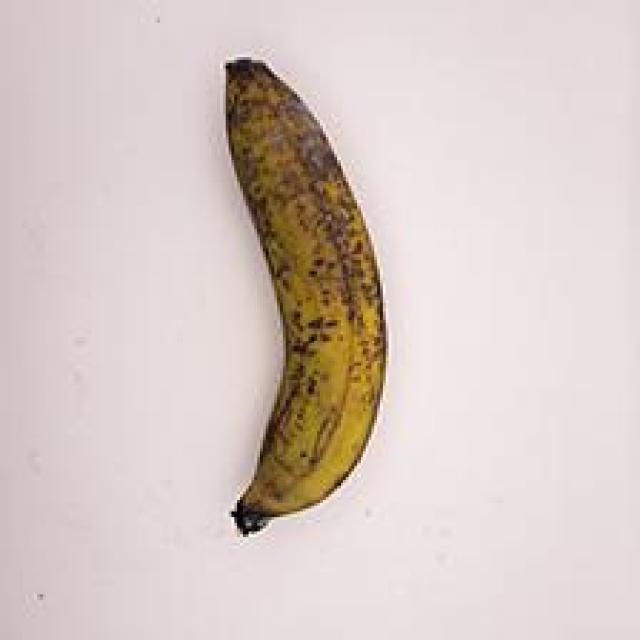Overripe: (169, 31, 406, 534)
